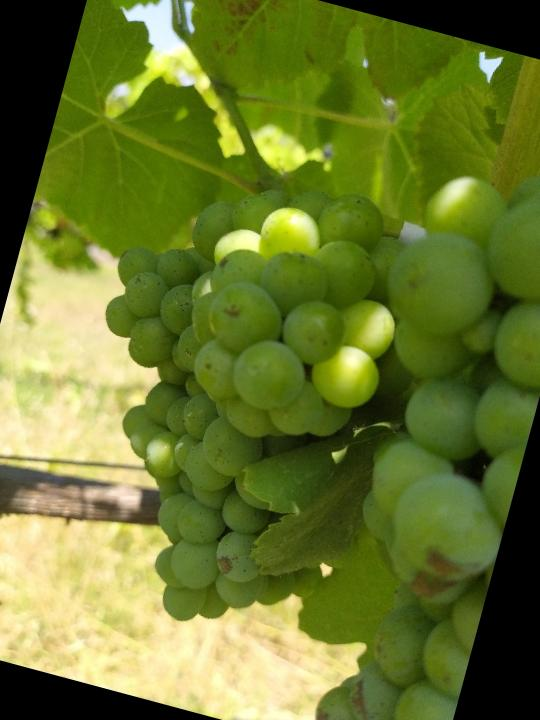grape: (29, 138, 418, 655)
